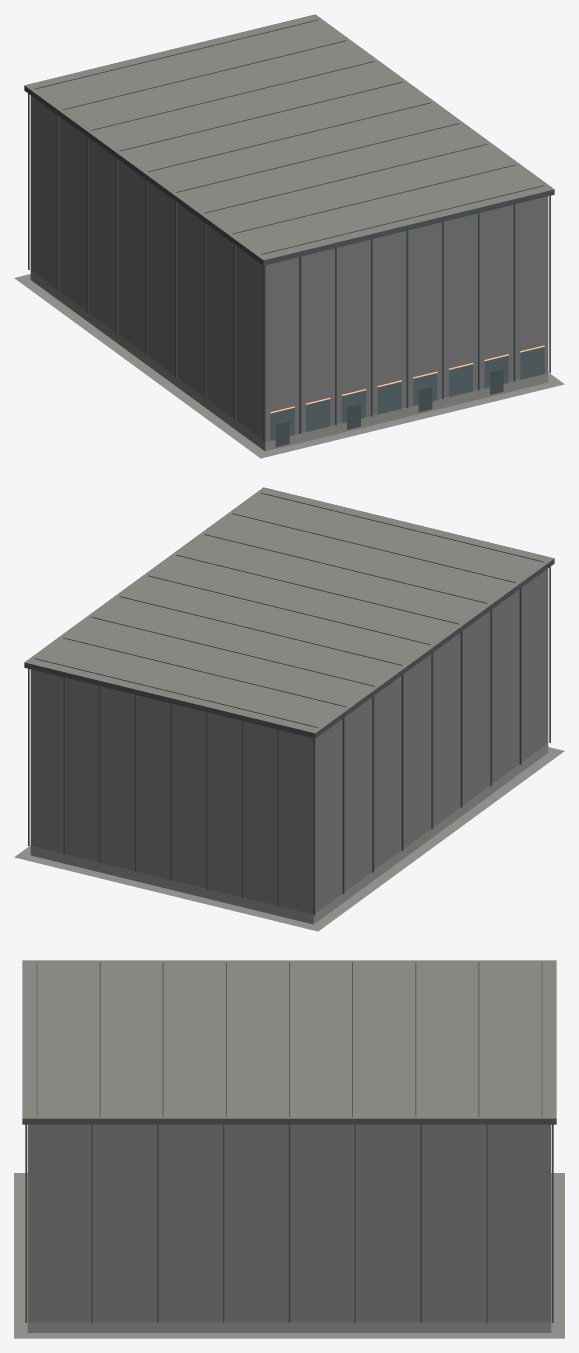
The model's file is shell.glb.
3 views of the same model, one above another, from view 1: azimuth 30°, elevation 25°; view 2: azimuth 150°, elevation 25°; view 3: azimuth 270°, elevation 25° (orthographic). The views are drawn at different scales.
Parts seen in each view (by area): view 1: shell_bowl_mass_cladding, shell_roof_canopy, shell_bowl_mass_facade_panels, shell_roof_canopy_fascia, shell_bowl_mass_suite_glass_lobby, shell_bowl_mass_plinth, shell_field_floor_apron, shell_bowl_mass_portal_frames; view 2: shell_bowl_mass_cladding, shell_roof_canopy, shell_bowl_mass_facade_panels, shell_roof_canopy_fascia, shell_bowl_mass_plinth, shell_field_floor_apron; view 3: shell_bowl_mass_cladding, shell_roof_canopy, shell_field_floor_apron, shell_roof_canopy_fascia, shell_bowl_mass_plinth, shell_bowl_mass_facade_panels.
Boxes of the visible parts, bbox=[...] form: shell_bowl_mass_cladding: bbox=[30, 95, 548, 441]; shell_roof_canopy: bbox=[25, 14, 553, 260]; shell_bowl_mass_facade_panels: bbox=[28, 93, 550, 442]; shell_roof_canopy_fascia: bbox=[24, 14, 554, 265]; shell_bowl_mass_suite_glass_lobby: bbox=[270, 347, 544, 440]; shell_bowl_mass_plinth: bbox=[30, 270, 548, 451]; shell_field_floor_apron: bbox=[14, 274, 564, 458]; shell_bowl_mass_portal_frames: bbox=[275, 369, 503, 447]; shell_bowl_mass_cladding: bbox=[30, 568, 548, 914]; shell_roof_canopy: bbox=[25, 487, 553, 733]; shell_bowl_mass_facade_panels: bbox=[28, 566, 550, 915]; shell_roof_canopy_fascia: bbox=[24, 487, 554, 738]; shell_bowl_mass_plinth: bbox=[30, 743, 548, 924]; shell_field_floor_apron: bbox=[14, 747, 564, 931]; shell_bowl_mass_cladding: bbox=[27, 1124, 551, 1321]; shell_roof_canopy: bbox=[22, 960, 556, 1118]; shell_field_floor_apron: bbox=[14, 1173, 564, 1338]; shell_roof_canopy_fascia: bbox=[22, 962, 556, 1124]; shell_bowl_mass_plinth: bbox=[27, 1322, 551, 1332]; shell_bowl_mass_facade_panels: bbox=[25, 1124, 553, 1322].
Size of the model in its own units: 38.31 by 23.39 by 53.83.
